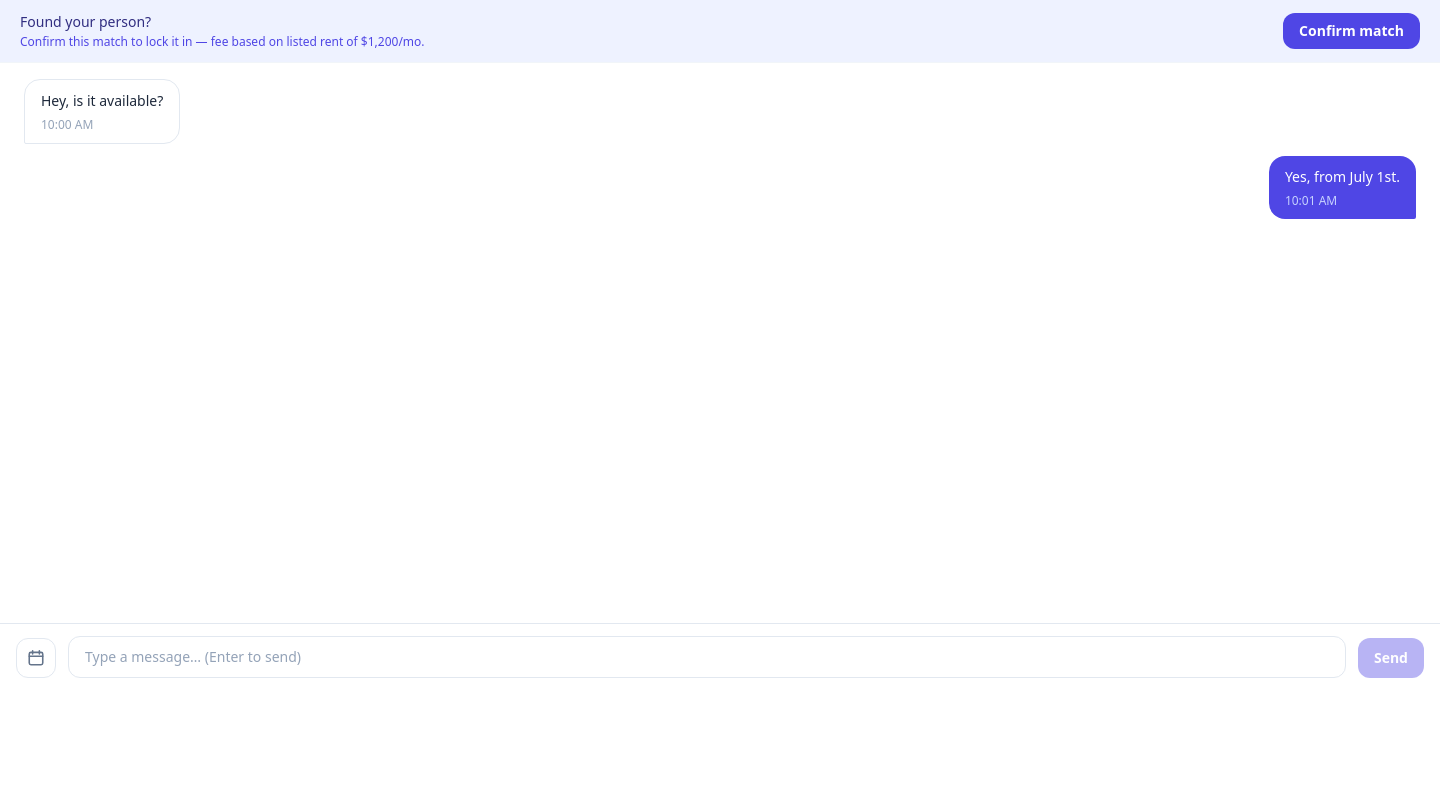
it: propose-a-time button › opens the ProposeViewingModal on click
The image size is (1440, 810).
Step 1. Click the button named "propose a time" → (36, 658), box x1=16 y1=638 x2=56 y2=678
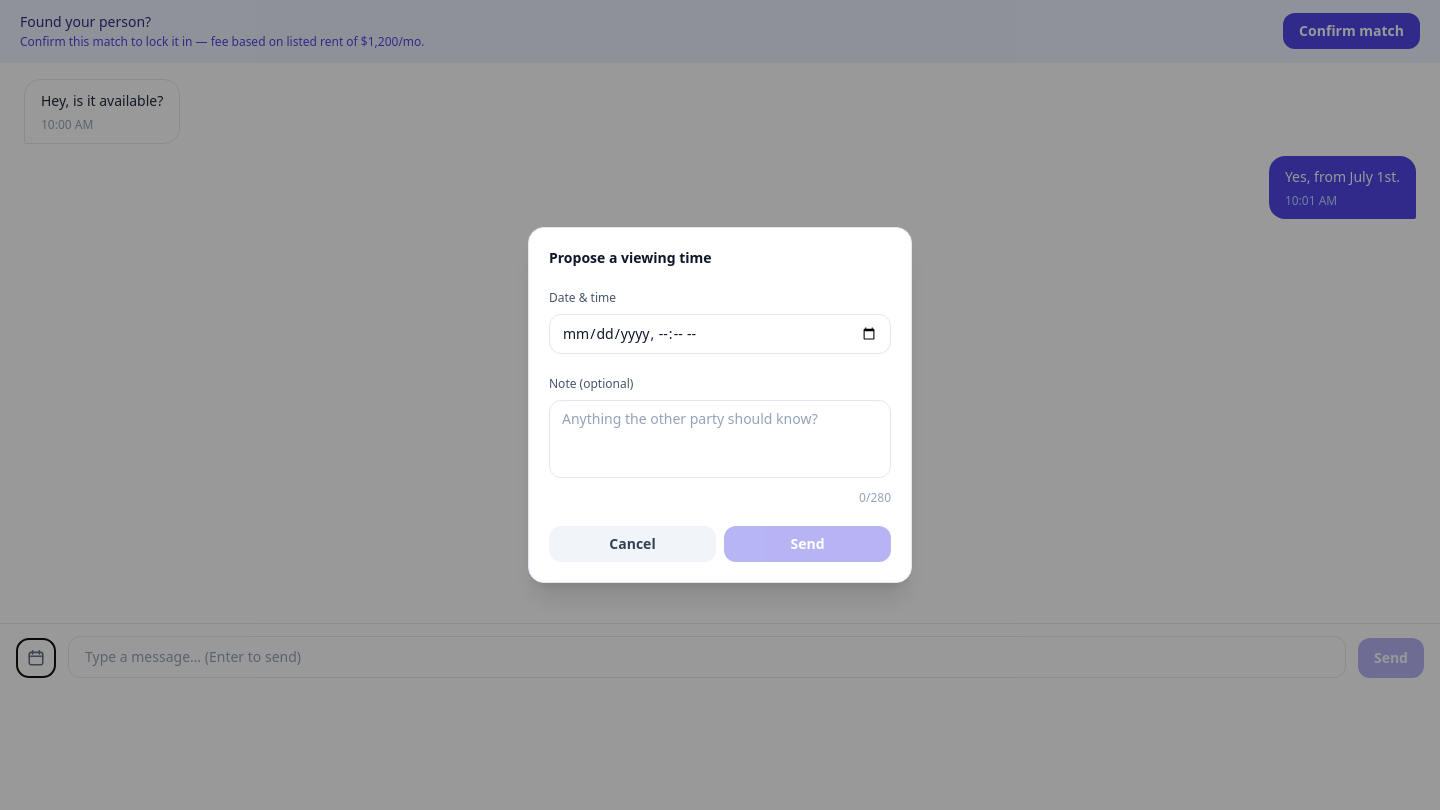
Now the heading "Propose a viewing time" is shown, box x1=549 y1=248 x2=712 y2=267
